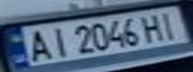0: (90, 19, 112, 52)
2: (69, 21, 93, 55)
4: (106, 16, 127, 48)
6: (121, 15, 145, 47)
A: (21, 27, 54, 62)
H: (139, 11, 169, 43)
I: (154, 9, 187, 39), (45, 25, 72, 58)
